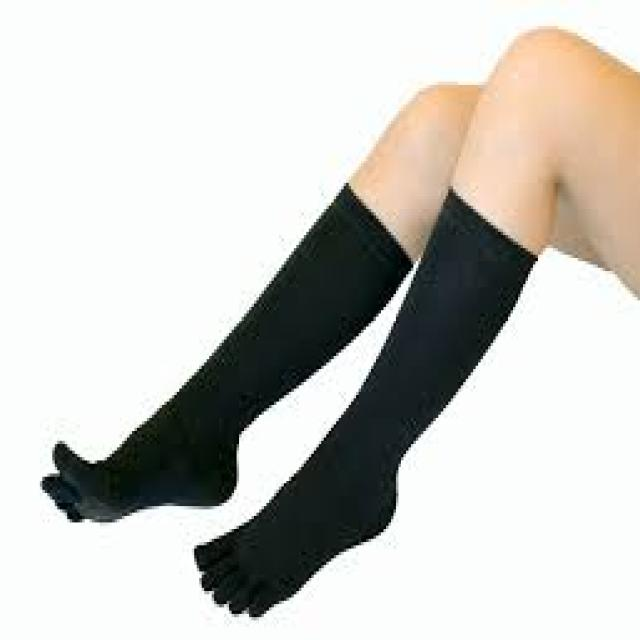sock: (192, 186, 538, 617), (40, 180, 413, 522)
